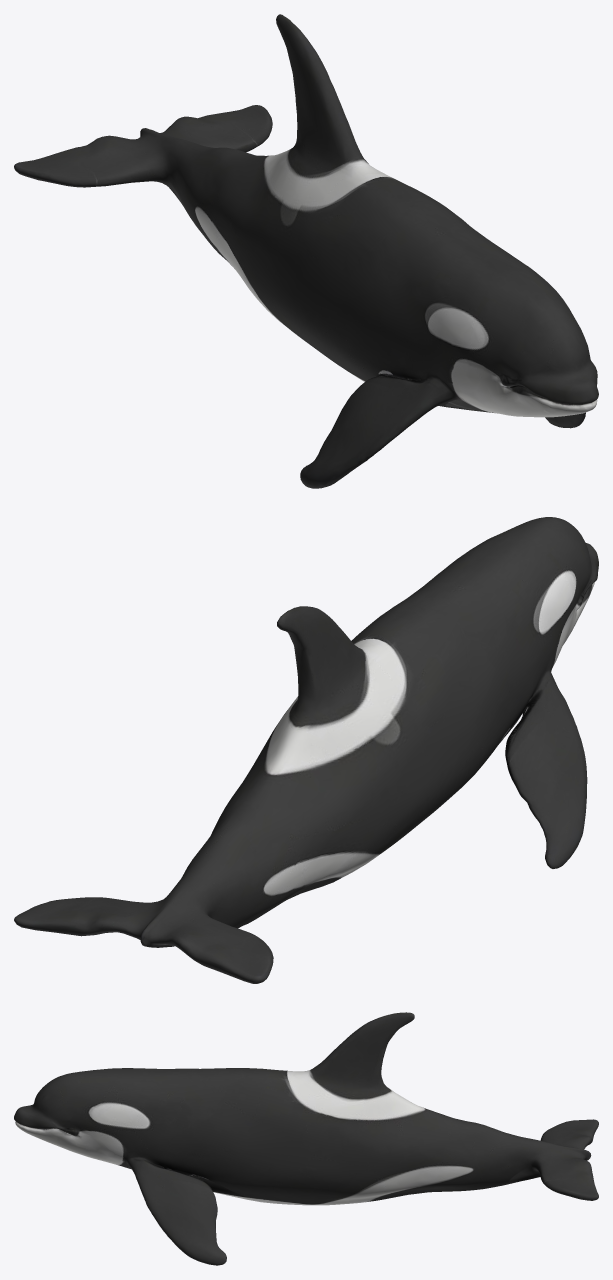
Rendered from killer-whale.glb.
The picture shows the model from 3 angles, top to bottom: view 1: azimuth 30°, elevation 25°; view 2: azimuth 150°, elevation 25°; view 3: azimuth 270°, elevation 25°; orthographic projection. The views are drawn at different scales.
Bounding box in the file's own units: 0.6411 × 0.7743 × 1.92.
Materials: 1 (1 with a texture image).
